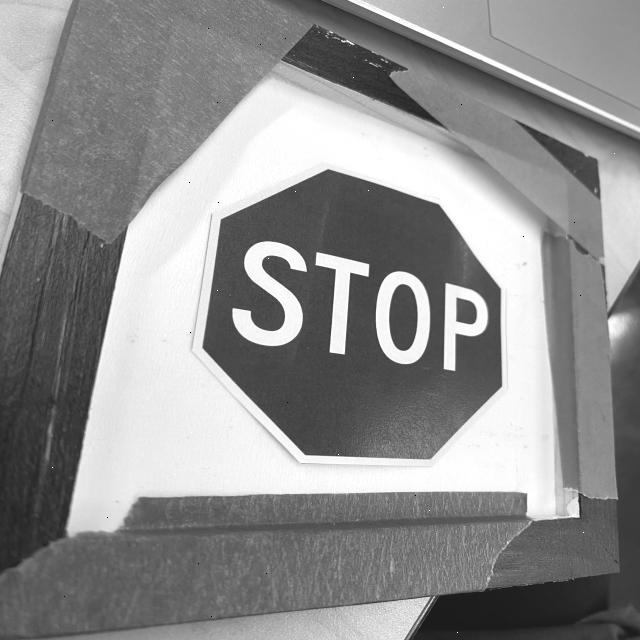stop: (191, 157, 509, 472)
